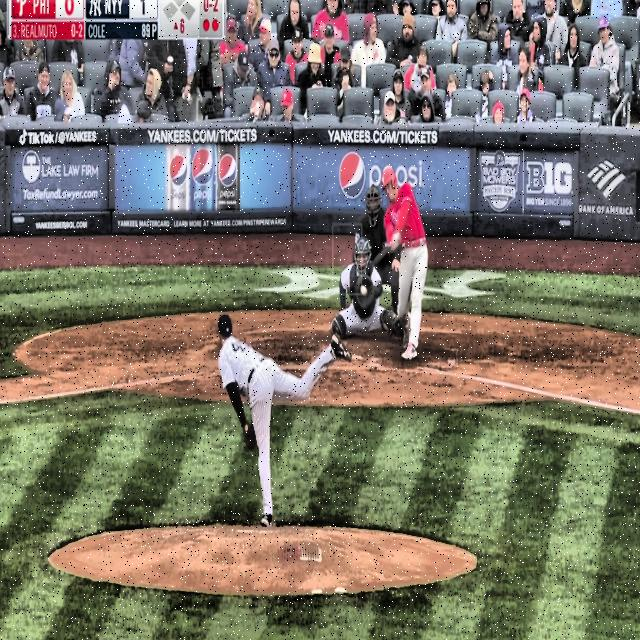baseball: (360, 285, 367, 296)
